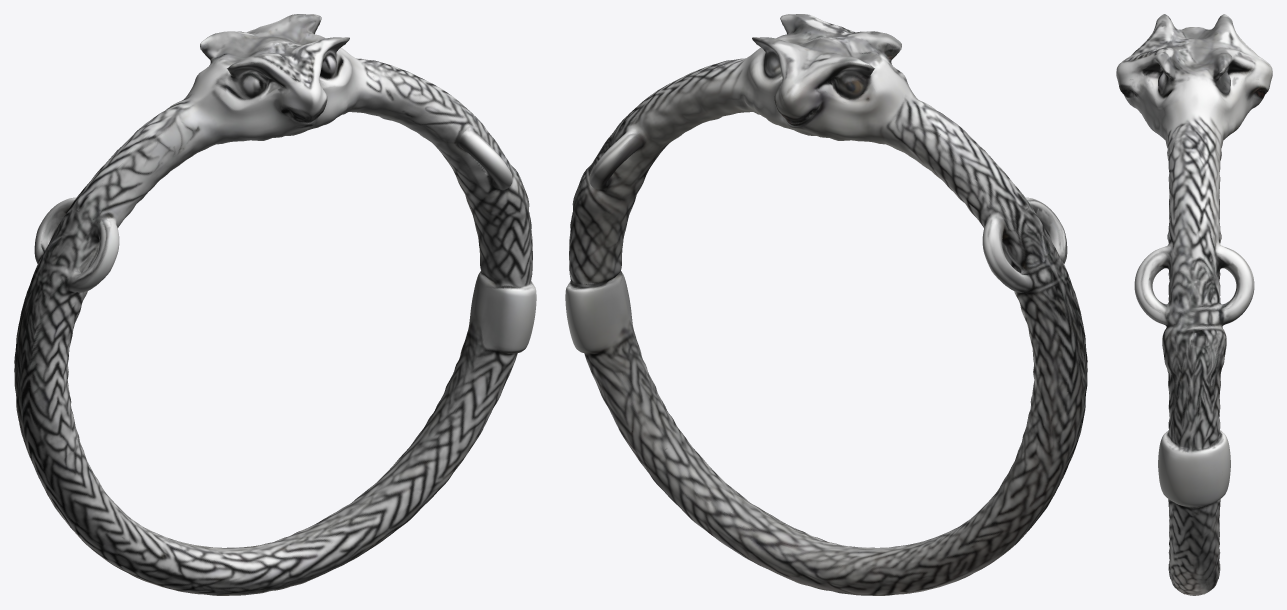
File: bracelet.glb
3 renders of one model, left to right at view 1: azimuth 30°, elevation 25°; view 2: azimuth 150°, elevation 25°; view 3: azimuth 270°, elevation 25°, orthographic. The views are drawn at different scales.
Bounding box in the file's own units: 1.94 × 1.99 × 0.5308.
Materials: 1 (1 with a texture image).
